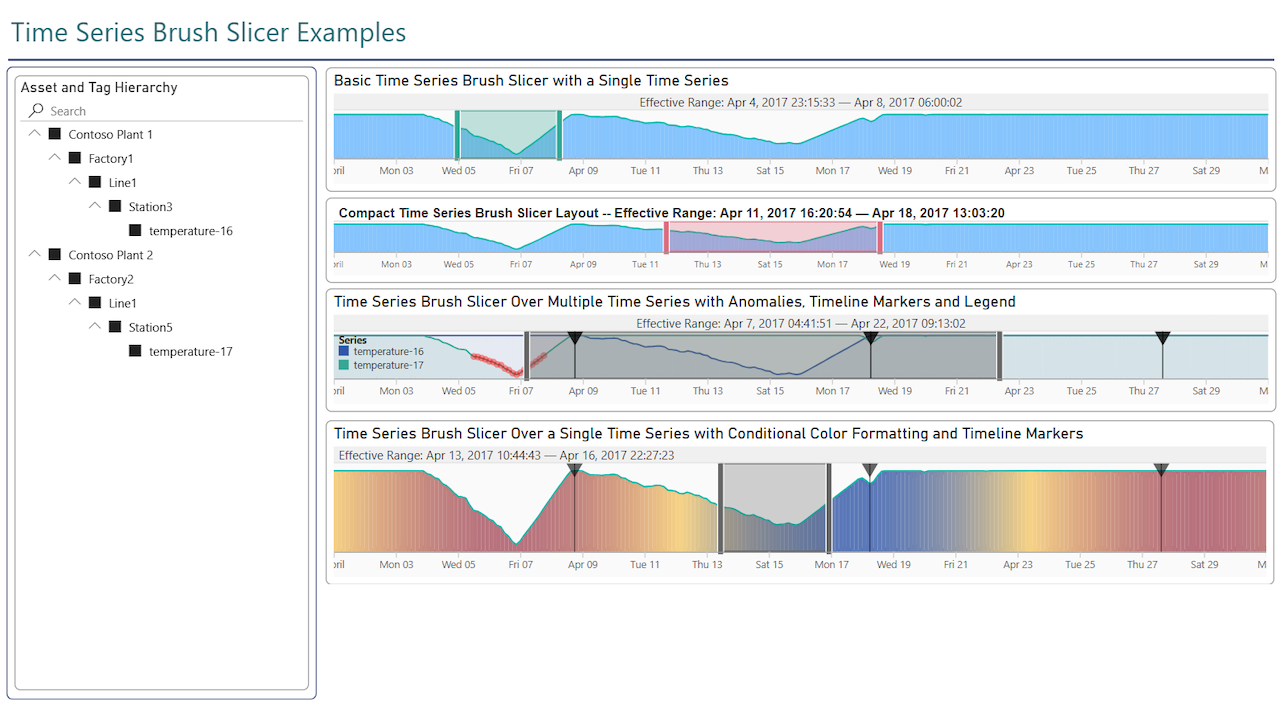

The page's visual inventory and layout, read from the dashboard file:
{"tool":"powerbi","page":{"name":"Time Series Brush Slicer","canvas":[1280,720],"ordinal":0},"visuals":[{"type":"shape","box":[11.3,80.4,308.7,630.1],"z":0},{"type":"shape","box":[12.5,67.2,1260,12.5],"z":1000},{"type":"textbox","box":[10.7,20.6,1260.9,46.6],"z":2000},{"type":"slicer","title":"Asset and Tag Hierarchy","fields":{"Values":["Tag Metadata.Plant","Tag Metadata.Factory","Tag Metadata.Line","Tag Metadata.Station","Tag Metadata.TagName"]},"box":[18.8,88.7,292.8,611.6],"z":3000},{"type":"TimeSeriesBrushSlicerEFF0BAA64FAF4DC989E3AB4DE7610647","title":"Time Series Brush Slicer Over Multiple Time Series with Anomalies, Timeline Markers and Legend","fields":{"timestamp":["Time Brush.timestamp"],"values":["Sum(Time Brush.value)"],"timelineMarkers":["Min(Time Brush 1.timeline_marker)"],"anomalies":["Max(Time Brush 1.anomaly)"],"series":["Tag Metadata.TagName"]},"box":[328.7,300.9,945.7,122.7],"z":5000},{"type":"TimeSeriesBrushSlicerEFF0BAA64FAF4DC989E3AB4DE7610647","title":"Time Series Brush Slicer Over a Single Time Series with Conditional Color Formatting and Timeline Markers","fields":{"timestamp":["Time Brush 1.timestamp"],"values":["Sum(Time Brush 1.value)"],"timelineMarkers":["Min(Time Brush 1.timeline_marker)"]},"box":[328.7,431.6,943.9,163.9],"z":6000},{"type":"textbox","box":[326.9,595.5,944.8,114.6],"z":7000},{"type":"TimeSeriesBrushSlicerEFF0BAA64FAF4DC989E3AB4DE7610647","title":"Basic Time Series Brush Slicer with a Single Time Series","fields":{"timestamp":["Time Brush.timestamp"],"values":["Sum(Time Brush.value)"]},"box":[328.7,80.6,945.7,123.6],"z":7001},{"type":"TimeSeriesBrushSlicerEFF0BAA64FAF4DC989E3AB4DE7610647","title":"Basic Time Brushing with a Singe Time Series","fields":{"timestamp":["Time Brush.timestamp"],"values":["Sum(Time Brush.value)"]},"box":[328.7,210.4,945.7,85.1],"z":7002}]}

Visuals, with their boxes in screenshot pixels (x1, y1, x2, y2), scaled from the page's 1280x720 canvas onto the 1280x720 screenshot:
shape: <bbox>11, 80, 320, 710</bbox>
shape: <bbox>12, 67, 1272, 80</bbox>
textbox: <bbox>11, 21, 1272, 67</bbox>
"Asset and Tag Hierarchy" slicer: <bbox>19, 89, 312, 700</bbox>
"Time Series Brush Slicer Over Multiple Time Series with Anomalies, Timeline Markers and Legend" TimeSeriesBrushSlicerEFF0BAA64FAF4DC989E3AB4DE7610647: <bbox>329, 301, 1274, 424</bbox>
"Time Series Brush Slicer Over a Single Time Series with Conditional Color Formatting and Timeline Markers" TimeSeriesBrushSlicerEFF0BAA64FAF4DC989E3AB4DE7610647: <bbox>329, 432, 1273, 596</bbox>
textbox: <bbox>327, 596, 1272, 710</bbox>
"Basic Time Series Brush Slicer with a Single Time Series" TimeSeriesBrushSlicerEFF0BAA64FAF4DC989E3AB4DE7610647: <bbox>329, 81, 1274, 204</bbox>
"Basic Time Brushing with a Singe Time Series" TimeSeriesBrushSlicerEFF0BAA64FAF4DC989E3AB4DE7610647: <bbox>329, 210, 1274, 296</bbox>
